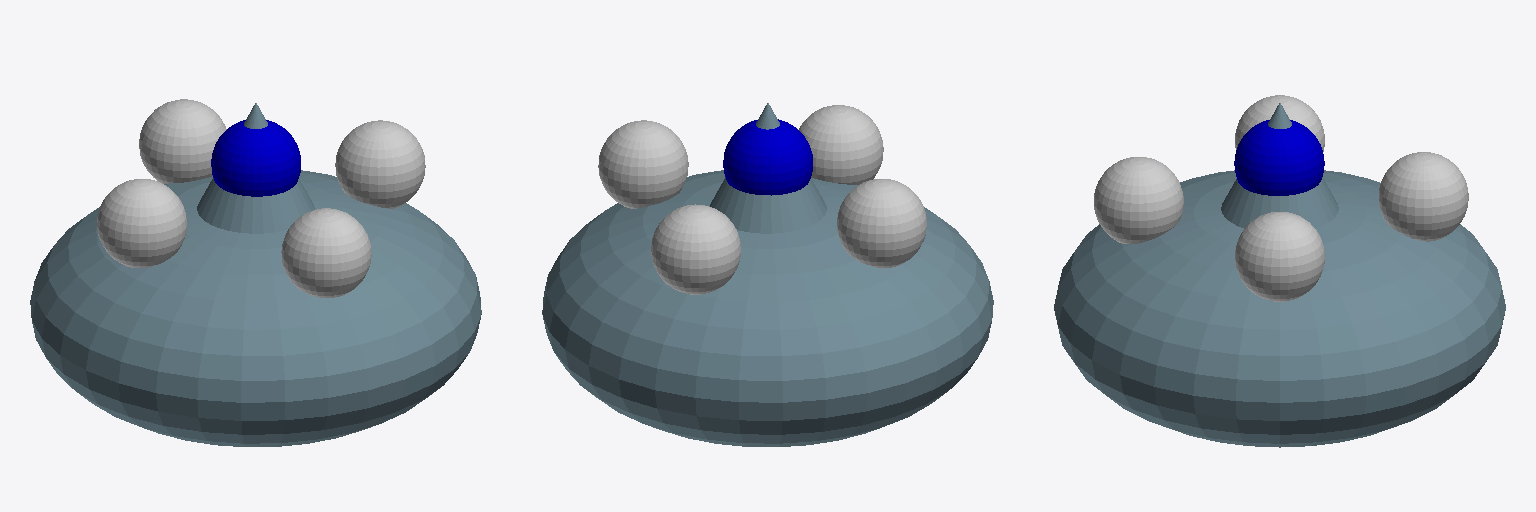
3 views of the same model, side by side, from view 1: azimuth 30°, elevation 25°; view 2: azimuth 150°, elevation 25°; view 3: azimuth 270°, elevation 25° (orthographic).
Visible parts, largest first — view 1: 球.005; view 2: 球.005; view 3: 球.005.
Boxes of the visible parts, box(x1,y1,x2,y2) form: 球.005: box(30, 99, 481, 446); 球.005: box(542, 103, 993, 446); 球.005: box(1054, 95, 1505, 447).
Size of the model in its own units: 2 by 1.5 by 2.
7 materials, 2 textured.